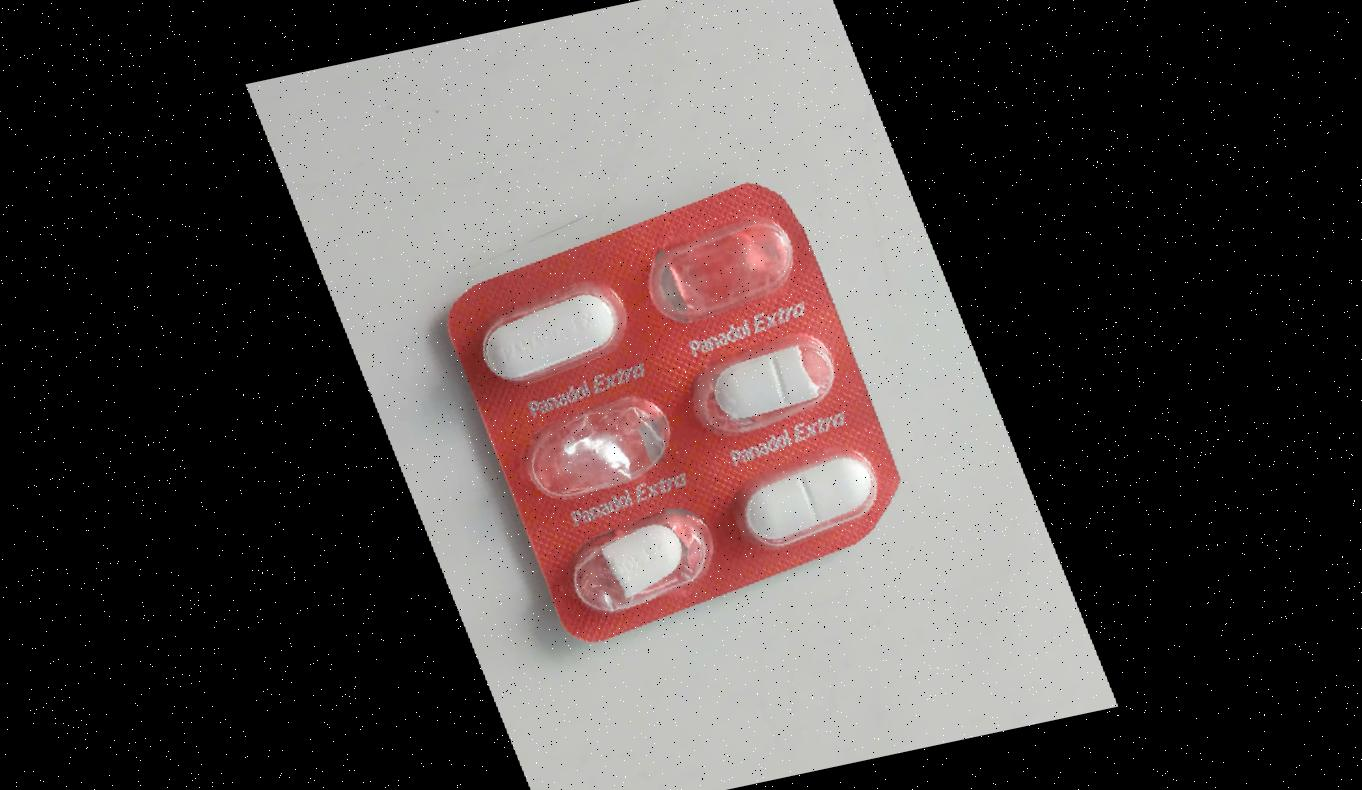Empty: (509, 380, 690, 521), (631, 198, 812, 338)
Full: (716, 432, 897, 573), (462, 268, 643, 408)
Partial: (679, 320, 860, 461), (552, 494, 732, 634)
